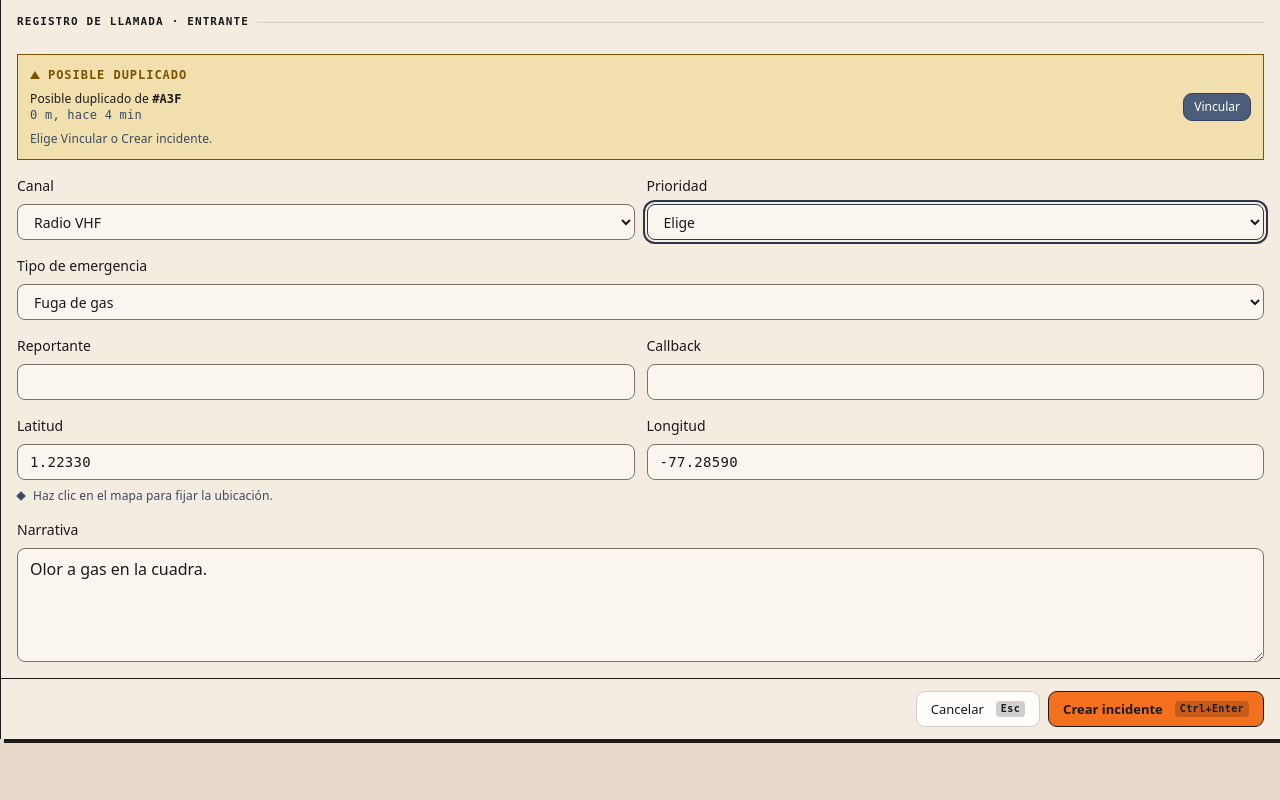
Test: FormularioLlamada · posibles duplicados › un borrador incompleto no vincula y señala los errores
Step 1. Click the button with aria-label "Vincular a #A3F" → (1217, 107), box [1183,93,1251,121]
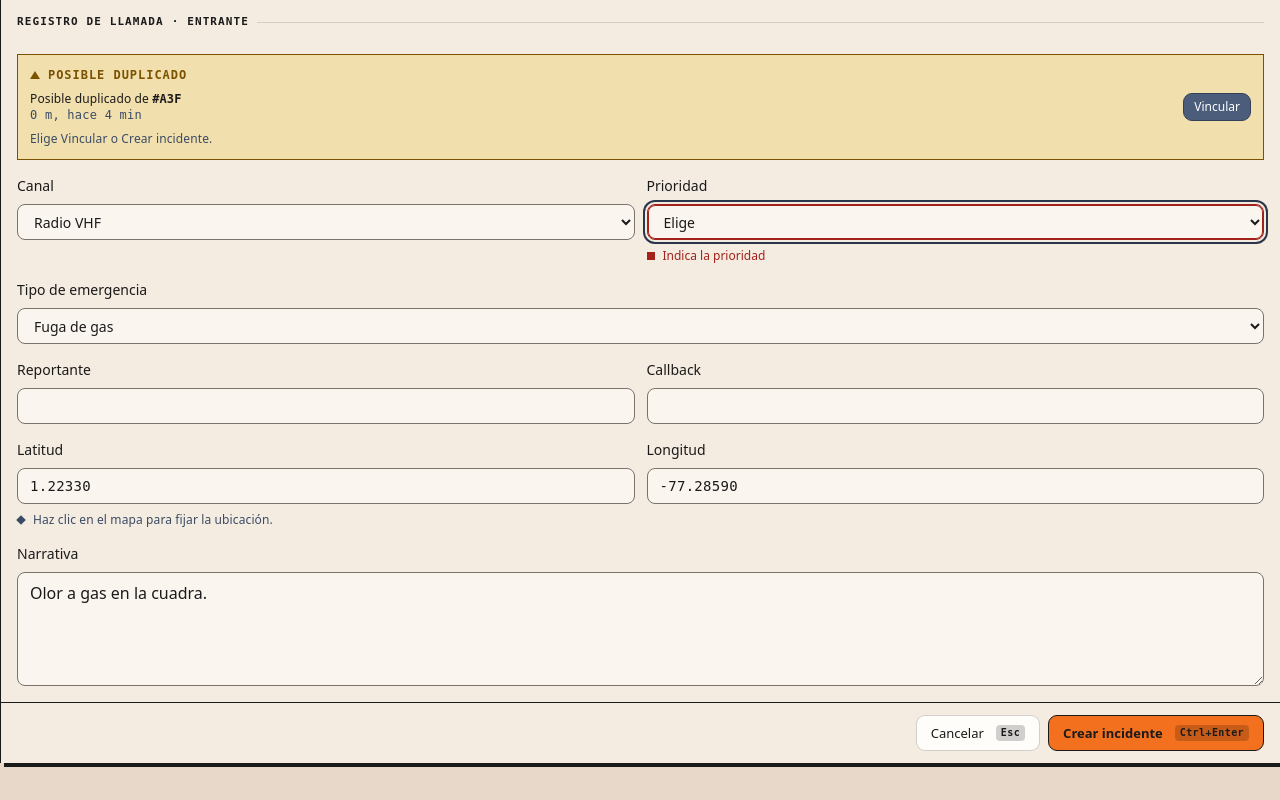
Check: the message reads "Indica la prioridad", box [662,247,765,264]
